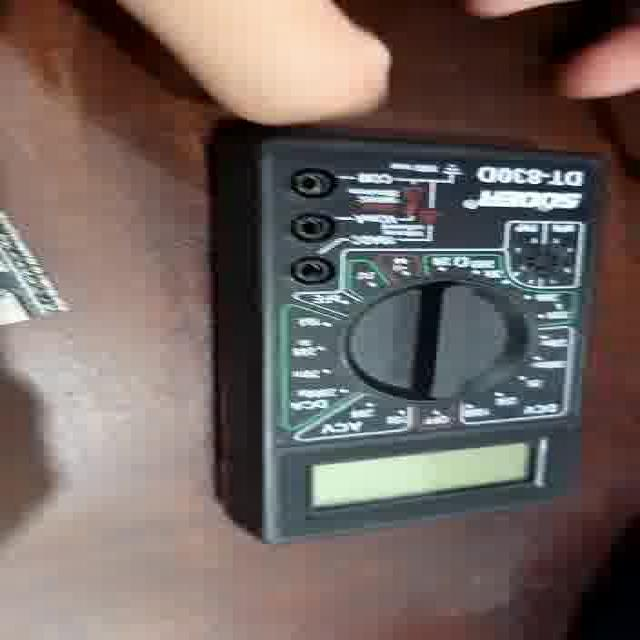multimeter: (219, 133, 574, 535)
